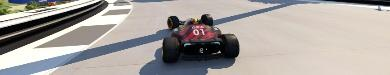Car: (161, 13, 239, 62)
obstacles-Borders: (0, 0, 104, 56)
